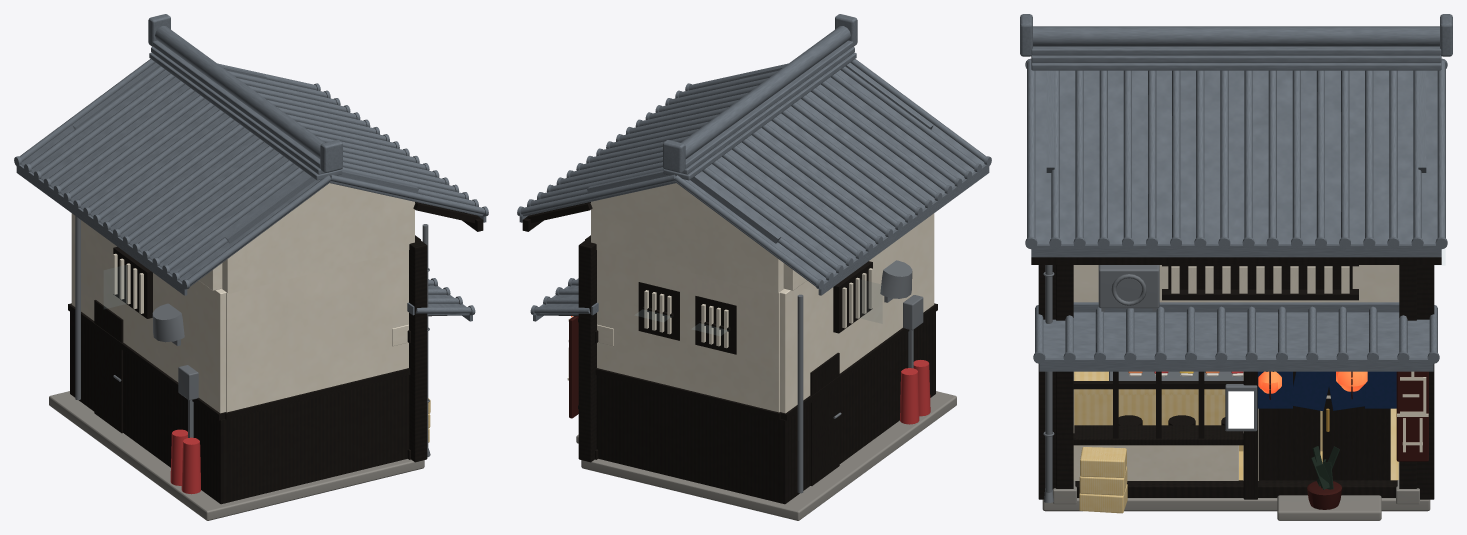
Rendered from sushi-store.glb.
3 renders of one model, left to right at view 1: azimuth 30°, elevation 25°; view 2: azimuth 150°, elevation 25°; view 3: azimuth 270°, elevation 25°, orthographic. The views are drawn at different scales.
Parts seen in each view (by area): view 1: Mesh_SidePlaster_R, Mesh_RoofRear_Deck, Mesh_SideBoard_R, Mesh_Gable_R, Mesh_BackPlaster, Mesh_BackBoard, Mesh_Plinth, Mesh_SideReturn_R, Mesh_RidgeCap, Mesh_ServiceDoor, Mesh_RoofRear_Fascia, Mesh_RidgeNoshi_2 (+45 smaller); view 2: Mesh_SidePlaster_L, Mesh_RoofRear_Deck, Mesh_SideBoard_L, Mesh_Gable_L, Mesh_BackPlaster, Mesh_BackBoard, Mesh_Plinth, Mesh_SideReturn_L, Mesh_RidgeCap, Mesh_ServiceDoor, Mesh_RoofRear_Fascia, Mesh_RidgeNoshi_2 (+48 smaller); view 3: Mesh_RoofFront_Deck, Mesh_ShopEave_Deck, Mesh_RidgeCap, Mesh_RoofFront_Fascia, Mesh_ShopEave_Fascia, Mesh_DoorLeaf_A, Mesh_WallSill, Mesh_DoorLeaf_B, Mesh_RidgeNoshi_2, Mesh_CounterApron, Mesh_BaseRail, Mesh_UpperWall (+54 smaller).
Boxes of the visible parts, bbox=[...] form: Mesh_SidePlaster_R: bbox=[226, 250, 408, 412]; Mesh_RoofRear_Deck: bbox=[21, 62, 329, 286]; Mesh_SideBoard_R: bbox=[228, 375, 409, 502]; Mesh_Gable_R: bbox=[222, 183, 414, 293]; Mesh_BackPlaster: bbox=[71, 213, 225, 413]; Mesh_BackBoard: bbox=[70, 312, 228, 504]; Mesh_Plinth: bbox=[49, 391, 424, 520]; Mesh_SideReturn_R: bbox=[409, 238, 427, 462]; Mesh_RidgeCap: bbox=[155, 26, 324, 158]; Mesh_ServiceDoor: bbox=[94, 300, 123, 433]; Mesh_RoofRear_Fascia: bbox=[16, 164, 187, 295]; Mesh_RidgeNoshi_2: bbox=[152, 40, 320, 168]; Mesh_SidePlaster_L: bbox=[597, 250, 779, 412]; Mesh_RoofRear_Deck: bbox=[676, 62, 984, 286]; Mesh_SideBoard_L: bbox=[596, 375, 779, 502]; Mesh_Gable_L: bbox=[591, 183, 783, 293]; Mesh_BackPlaster: bbox=[780, 213, 934, 413]; Mesh_BackBoard: bbox=[777, 312, 935, 504]; Mesh_Plinth: bbox=[581, 391, 956, 520]; Mesh_SideReturn_L: bbox=[578, 238, 596, 462]; Mesh_RidgeCap: bbox=[681, 26, 850, 158]; Mesh_ServiceDoor: bbox=[810, 352, 839, 485]; Mesh_RoofRear_Fascia: bbox=[818, 163, 989, 295]; Mesh_RidgeNoshi_2: bbox=[685, 40, 853, 168]; Mesh_RoofFront_Deck: bbox=[1035, 70, 1437, 244]; Mesh_ShopEave_Deck: bbox=[1043, 312, 1429, 358]; Mesh_RidgeCap: bbox=[1033, 26, 1439, 46]; Mesh_RoofFront_Fascia: bbox=[1031, 244, 1441, 257]; Mesh_ShopEave_Fascia: bbox=[1039, 358, 1433, 371]; Mesh_DoorLeaf_A: bbox=[1322, 385, 1390, 480]; Mesh_WallSill: bbox=[1073, 445, 1238, 480]; Mesh_DoorLeaf_B: bbox=[1258, 371, 1320, 480]; Mesh_RidgeNoshi_2: bbox=[1031, 46, 1441, 55]; Mesh_CounterApron: bbox=[1074, 394, 1322, 451]; Mesh_BaseRail: bbox=[1075, 480, 1397, 497]; Mesh_UpperWall: bbox=[1073, 265, 1399, 302].
Size of the model in its own units: 5.31 by 5.97 by 5.4.
21 materials, 5 textured.
